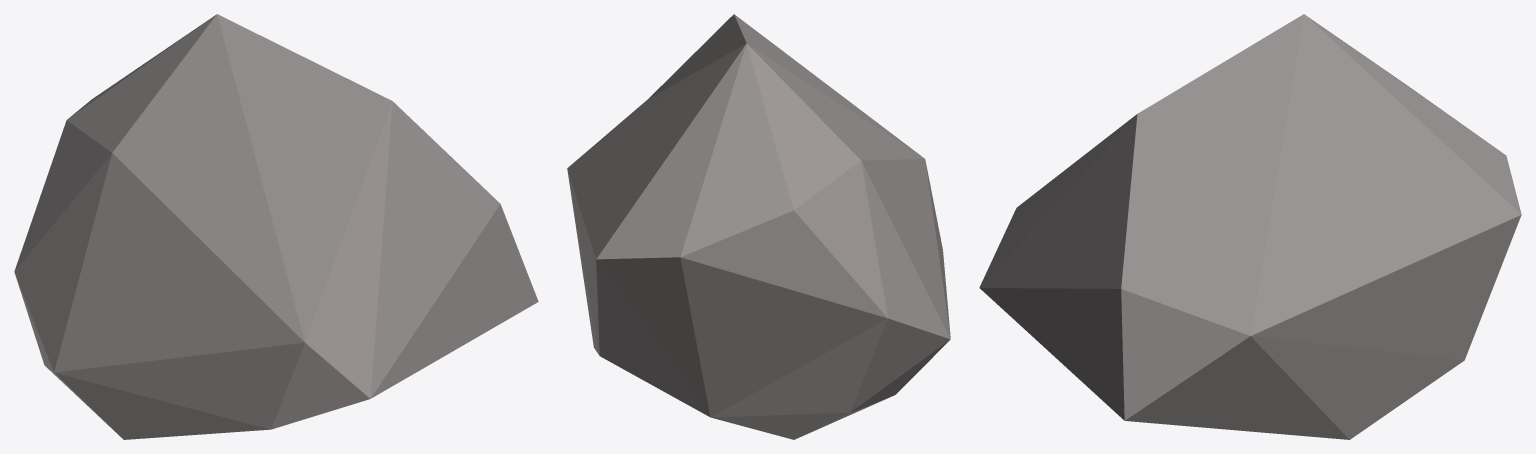
Rendered from SM_Rock_S_02.fbx.
The picture shows the model from 3 angles, left to right: view 1: azimuth 30°, elevation 25°; view 2: azimuth 150°, elevation 25°; view 3: azimuth 270°, elevation 25°; orthographic projection. The views are drawn at different scales.
Visible parts, largest first — view 1: SM_Rock_S_02; view 2: SM_Rock_S_02; view 3: SM_Rock_S_02.
Part boxes in pixels (box(x1,y1,x2,y2)): SM_Rock_S_02: box(14, 14, 538, 439); SM_Rock_S_02: box(567, 14, 950, 439); SM_Rock_S_02: box(979, 14, 1521, 439).
Size of the model in its own units: 35.63 by 31.64 by 38.24.
